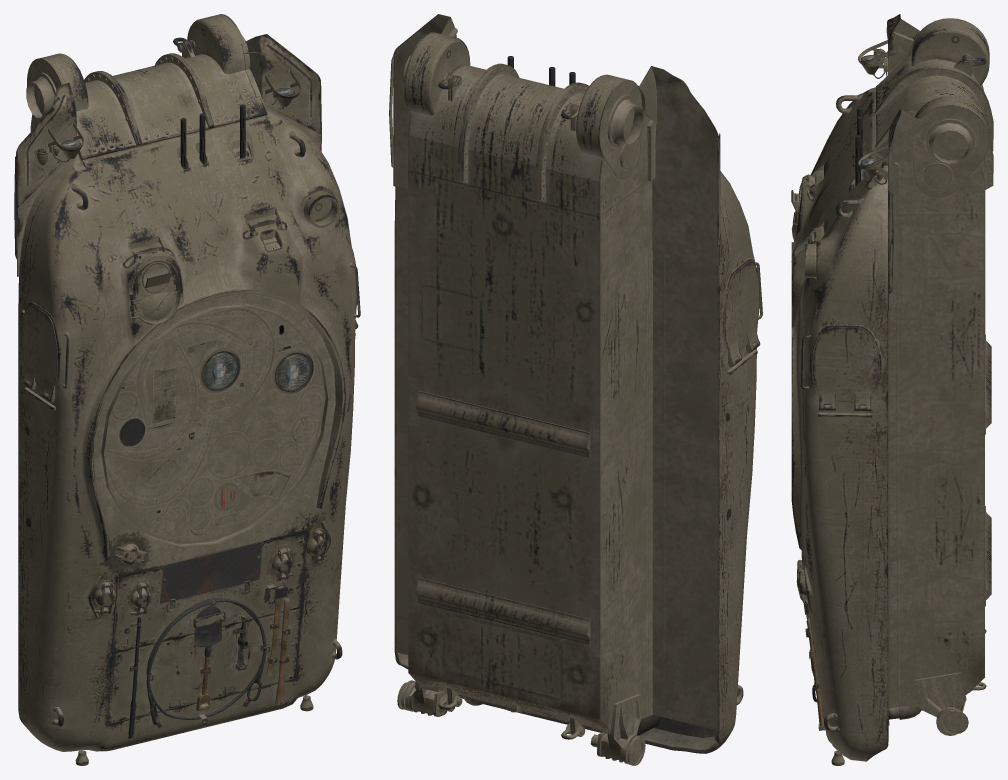
The model's file is Hull.glb.
3 renders of one model, left to right at view 1: azimuth 30°, elevation 25°; view 2: azimuth 150°, elevation 25°; view 3: azimuth 270°, elevation 25°, orthographic. The views are drawn at different scales.
Visible parts, largest first — view 1: set_0_group_0; view 2: set_0_group_0; view 3: set_0_group_0.
Boxes of the visible parts, x1=… form: set_0_group_0: x1=14, y1=14, x2=360, y2=765; set_0_group_0: x1=389, y1=14, x2=762, y2=765; set_0_group_0: x1=791, y1=14, x2=993, y2=765.
Size of the model in its own units: 2.72 by 5.47 by 1.55.
Materials: 1 (1 with a texture image).
